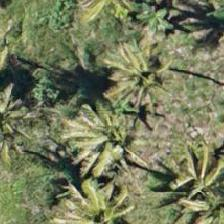coconut_tree: (62, 94, 152, 184), (95, 33, 185, 123), (164, 139, 223, 223), (48, 175, 138, 223)
